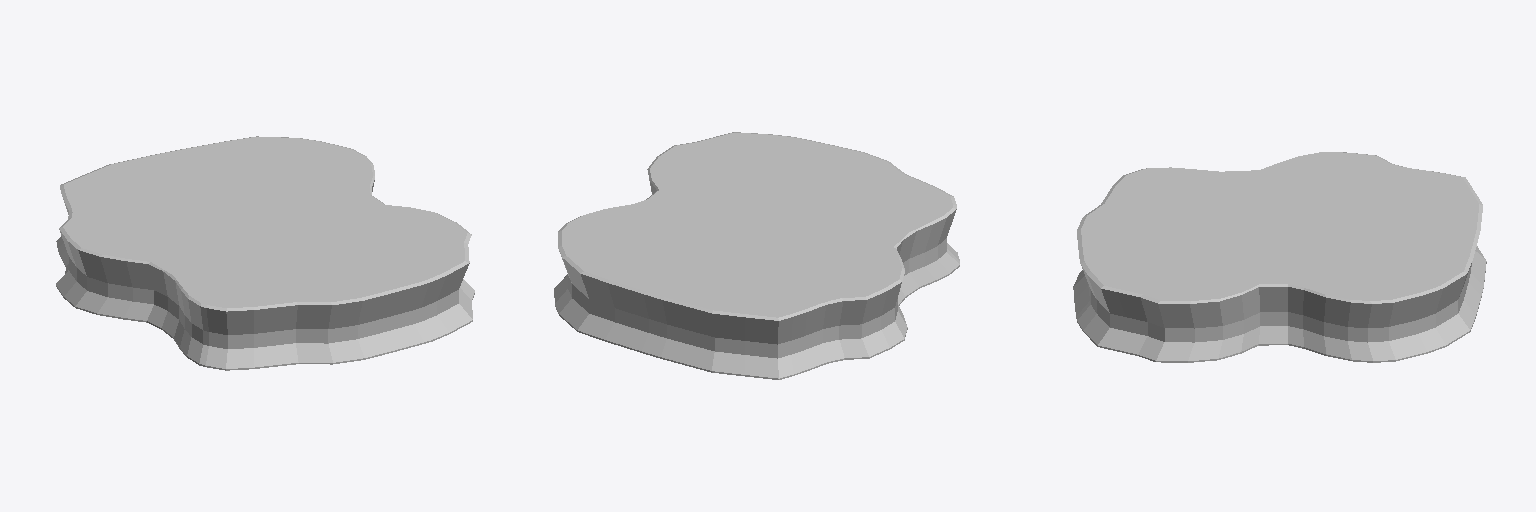
Rendered from island_01.obj.
The picture shows the model from 3 angles: view 1: azimuth 30°, elevation 25°; view 2: azimuth 150°, elevation 25°; view 3: azimuth 270°, elevation 25°; orthographic projection.
Visible parts, largest first — view 1: island_01_Cube.003; view 2: island_01_Cube.003; view 3: island_01_Cube.003.
Boxes of the visible parts, x1=… form: island_01_Cube.003: x1=56, y1=136, x2=474, y2=370; island_01_Cube.003: x1=554, y1=132, x2=959, y2=379; island_01_Cube.003: x1=1073, y1=152, x2=1486, y2=362.
Bounding box in the file's own units: 44.95 × 8.01 × 50.69.